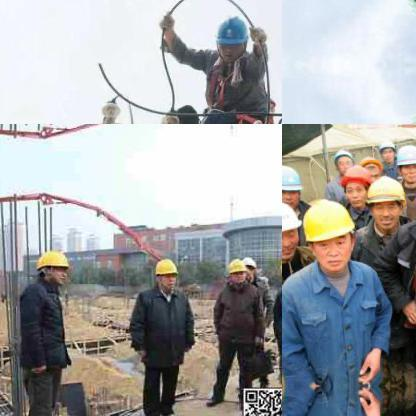Helmet: (296, 198, 354, 266), (362, 175, 406, 229), (211, 12, 249, 62), (31, 246, 73, 284), (282, 194, 304, 261), (338, 164, 370, 206), (282, 160, 303, 208), (152, 254, 178, 290), (395, 140, 415, 186), (239, 252, 259, 284), (330, 146, 354, 172), (224, 254, 244, 284), (376, 136, 394, 166)
